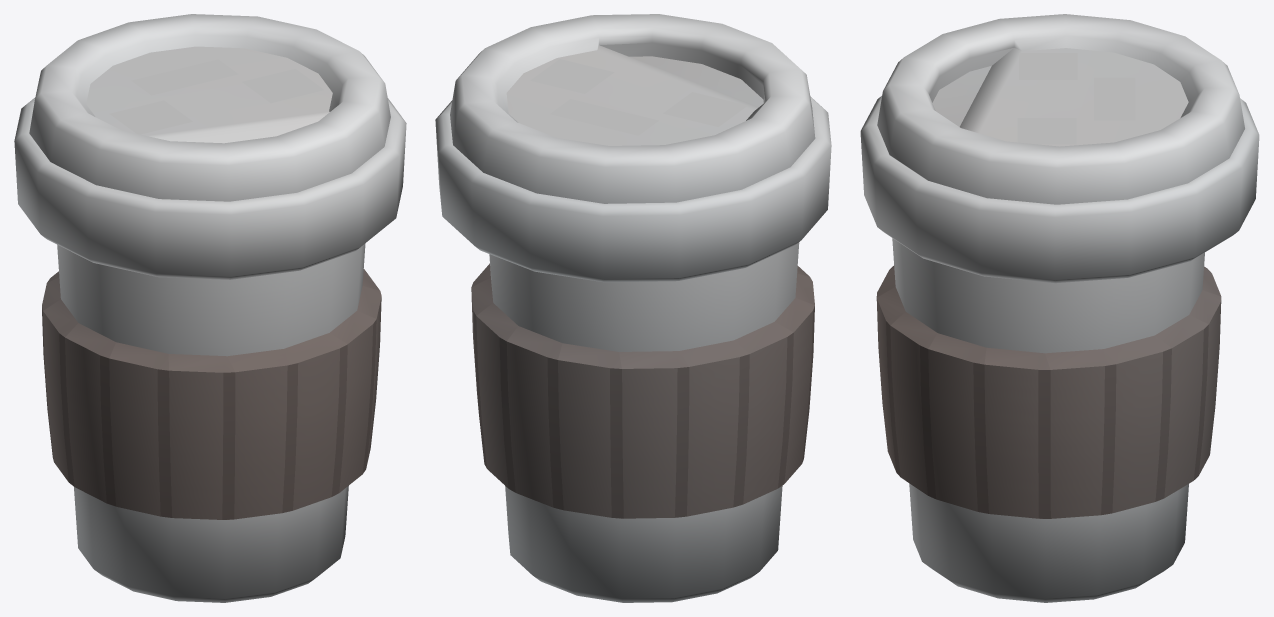
The model's file is coffee_cup_smile.fbx.
The picture shows the model from 3 angles, left to right: view 1: azimuth 30°, elevation 25°; view 2: azimuth 150°, elevation 25°; view 3: azimuth 270°, elevation 25°; orthographic projection.
Parts seen in each view (by area): view 1: coffee_003, smile; view 2: coffee_003, smile; view 3: coffee_003, smile.
Boxes of the visible parts, x1=… form: coffee_003: x1=14, y1=14, x2=406, y2=602; smile: x1=109, y1=59, x2=323, y2=134; coffee_003: x1=435, y1=14, x2=831, y2=602; smile: x1=530, y1=59, x2=747, y2=135; coffee_003: x1=860, y1=14, x2=1259, y2=602; smile: x1=1017, y1=53, x2=1135, y2=144.
Size of the model in its own units: 64.07 by 82.46 by 64.07.
